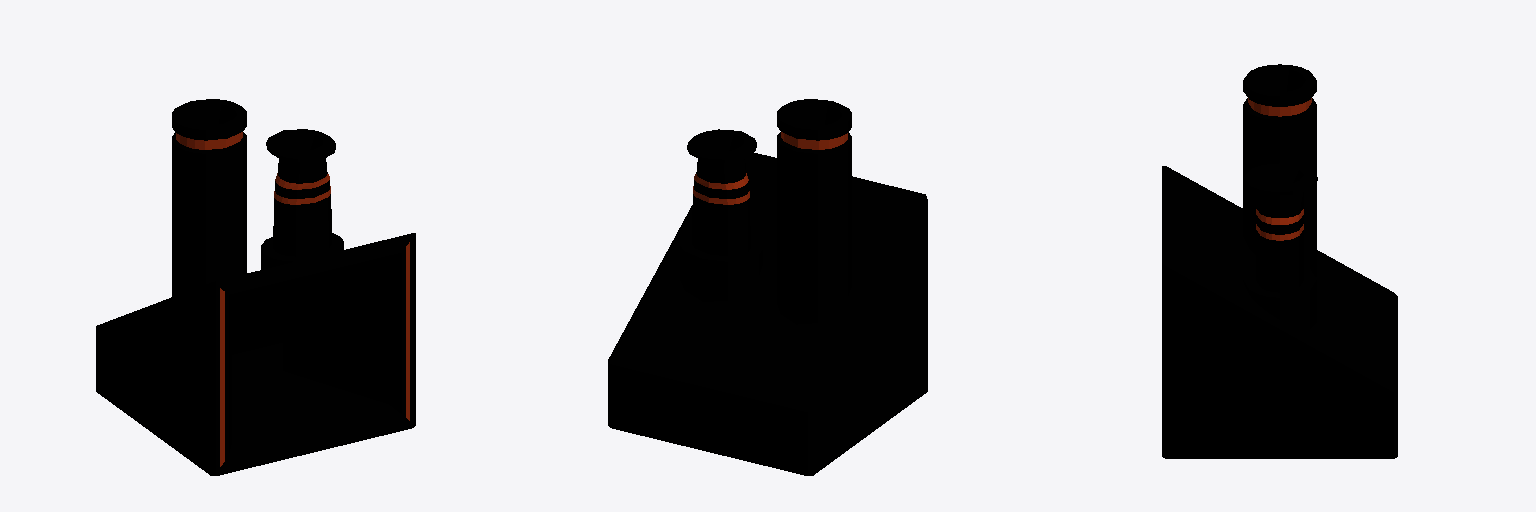
File: incinerator.obj
The picture shows the model from 3 angles: view 1: azimuth 30°, elevation 25°; view 2: azimuth 150°, elevation 25°; view 3: azimuth 270°, elevation 25°; orthographic projection.
Visible parts, largest first — view 1: Cube; view 2: Cube; view 3: Cube.
Boxes of the visible parts, box(x1,y1,x2,y2) form: Cube: box(96, 99, 415, 475); Cube: box(608, 99, 927, 475); Cube: box(1162, 64, 1397, 458).
Bounding box in the file's own units: 1.99 × 2.83 × 1.99.